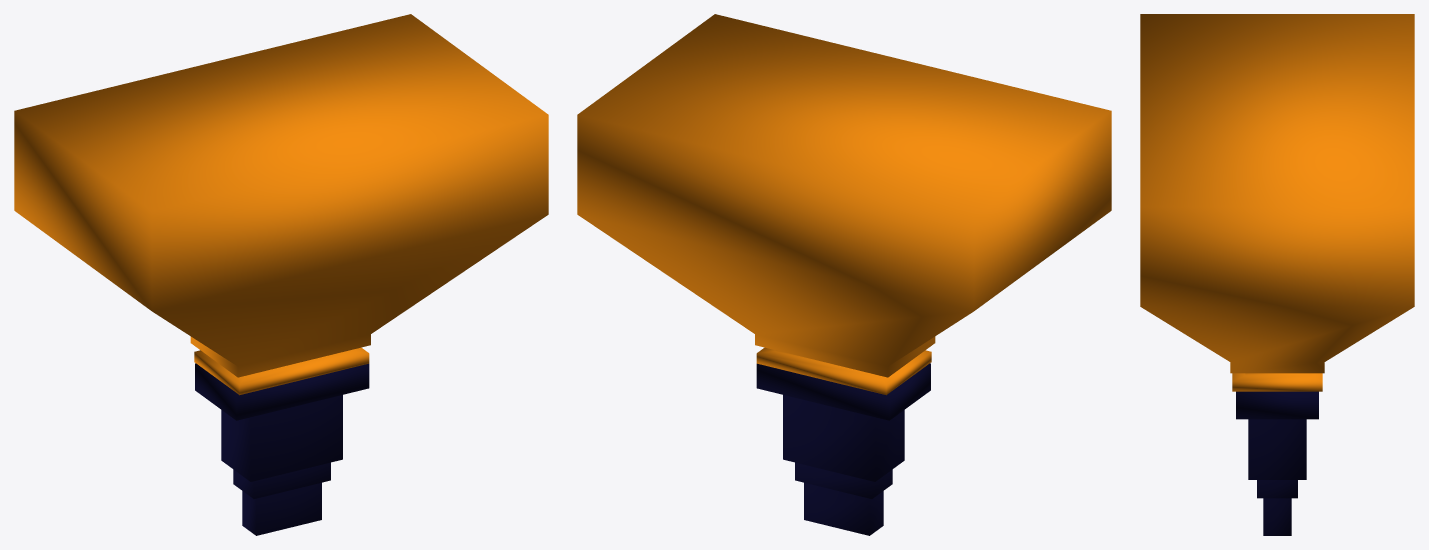
File: Industrial_Tank_2.fbx
3 views of the same model, side by side, from view 1: azimuth 30°, elevation 25°; view 2: azimuth 150°, elevation 25°; view 3: azimuth 270°, elevation 25° (orthographic).
Visible parts, largest first — view 1: Cube.013; view 2: Cube.013; view 3: Cube.013.
Boxes of the visible parts, bbox=[...] form: Cube.013: bbox=[14, 14, 548, 535]; Cube.013: bbox=[577, 14, 1111, 535]; Cube.013: bbox=[1140, 14, 1414, 535].
Bounding box in the file's own units: 135 × 134 × 81.32.
